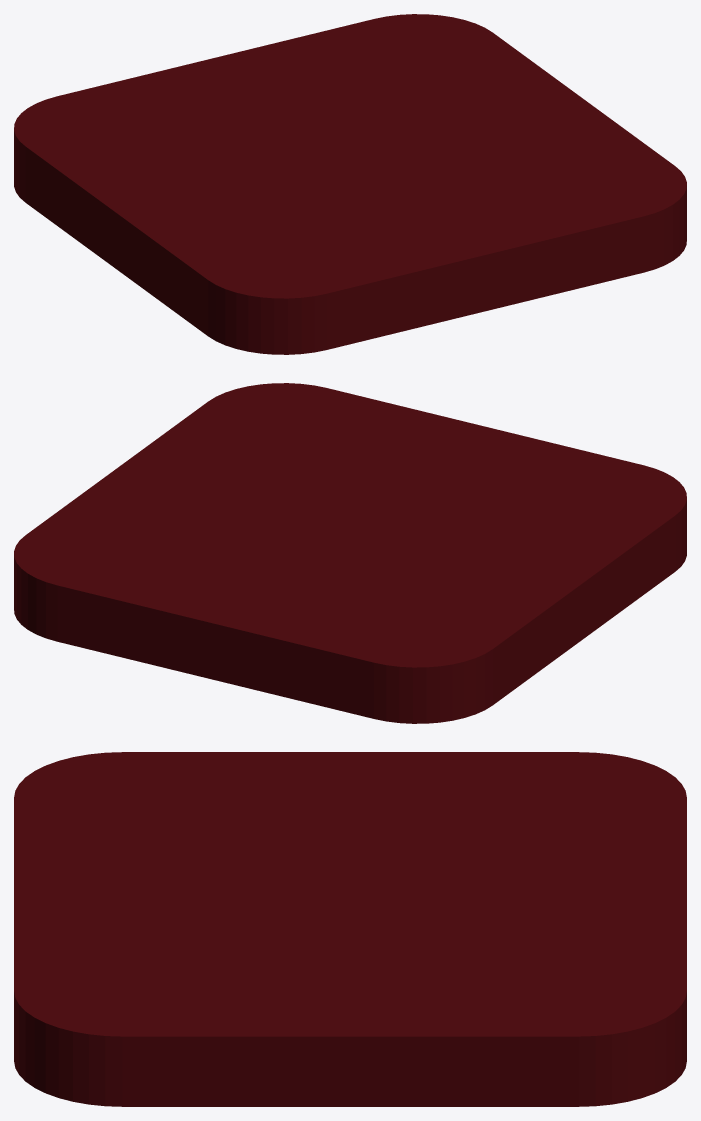
File: Prism.glb
3 views of the same model, one above another, from view 1: azimuth 30°, elevation 25°; view 2: azimuth 150°, elevation 25°; view 3: azimuth 270°, elevation 25° (orthographic). The views are drawn at different scales.
Parts seen in each view (by area): view 1: Cube; view 2: Cube; view 3: Cube.
Part boxes in pixels (left/top/right/bottom): Cube: left=14, top=14, right=686, bottom=354; Cube: left=14, top=383, right=686, bottom=723; Cube: left=14, top=752, right=686, bottom=1106.
Bounding box in the file's own units: 50.78 × 6.7 × 50.78.
